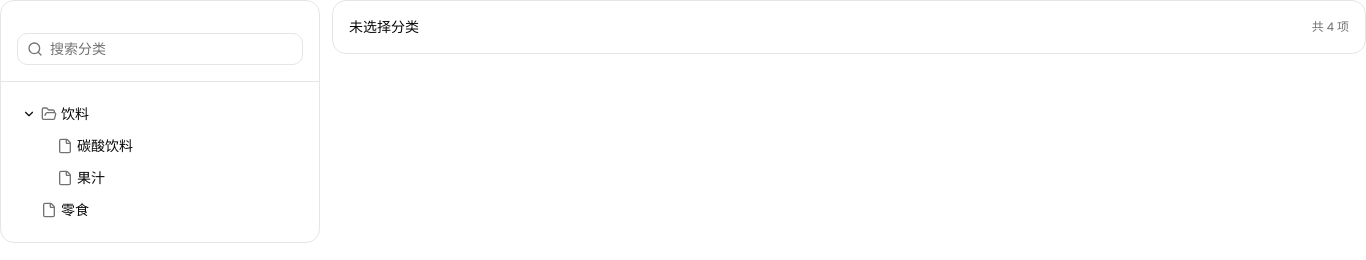
TreeCrudPage › filters the tree by the search query
Type "果汁" into the search field labelled "搜索分类" at (160, 49), box [17, 33, 303, 65]
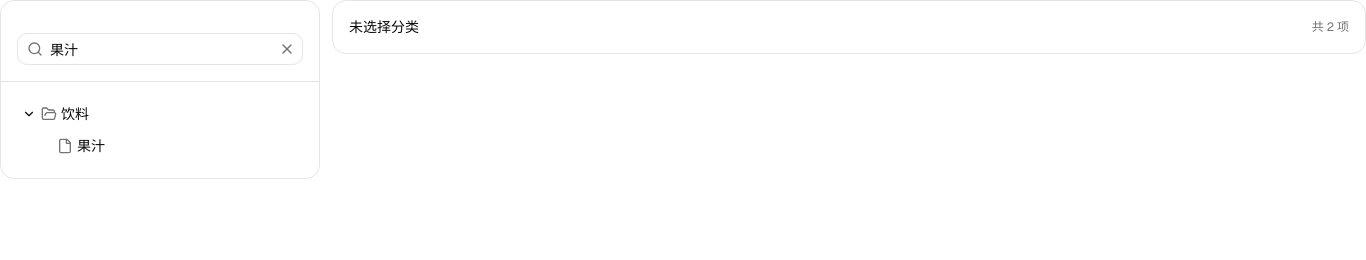
Expected: the text "果汁" is shown, [77, 137, 105, 155]
Result: the text "零食" is gone
